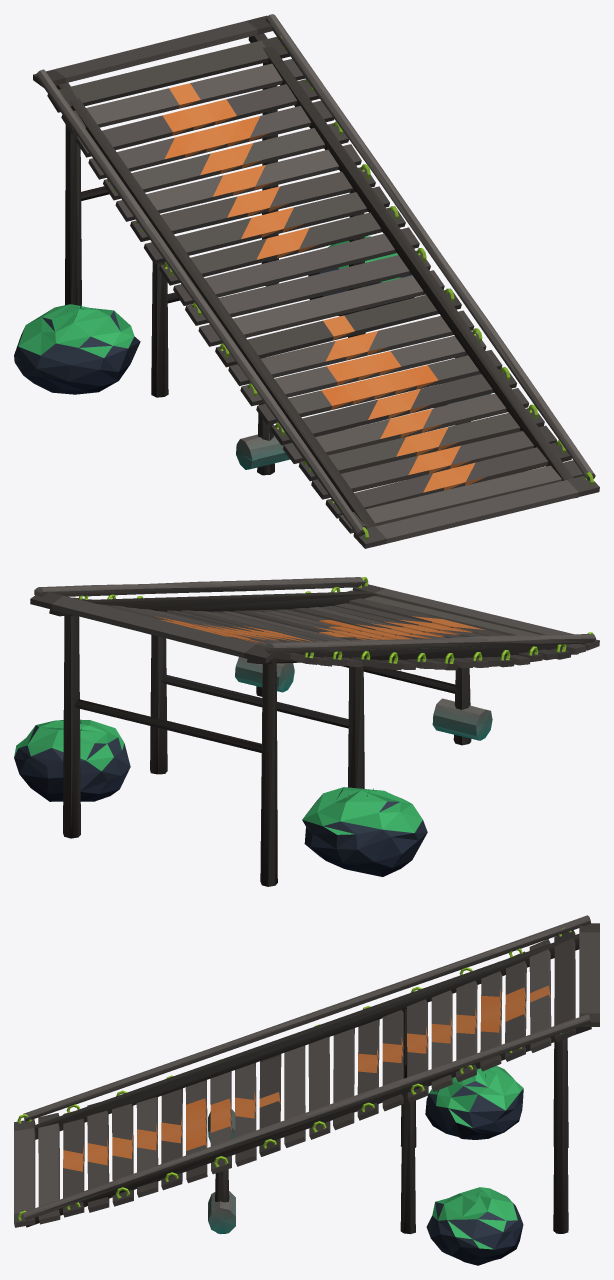
The model's file is riverrush_long_ramp_mossy_414754.glb.
3 views of the same model, one above another, from view 1: azimuth 30°, elevation 25°; view 2: azimuth 150°, elevation 25°; view 3: azimuth 270°, elevation 25° (orthographic). The views are drawn at different scales.
Visible parts, largest first — view 1: Tanjakan_Jumping_Panjang_Tinggi; view 2: Tanjakan_Jumping_Panjang_Tinggi; view 3: Tanjakan_Jumping_Panjang_Tinggi.
Part boxes in pixels (x1,y1,x2,y2): Tanjakan_Jumping_Panjang_Tinggi: [14, 14, 599, 548]; Tanjakan_Jumping_Panjang_Tinggi: [14, 577, 599, 886]; Tanjakan_Jumping_Panjang_Tinggi: [14, 915, 599, 1265].
Size of the model in its own units: 10.11 by 6.42 by 14.6.
